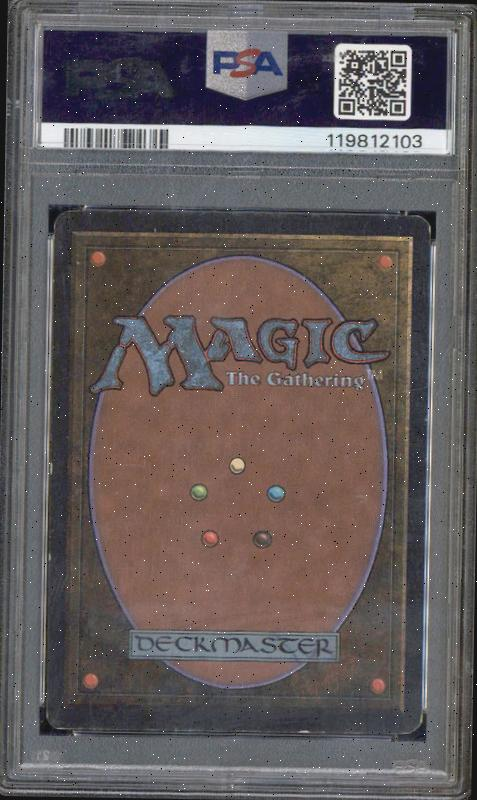card-2UtV: (45, 210, 430, 734)
